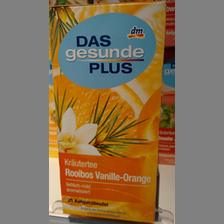Tee: (47, 0, 165, 222)
